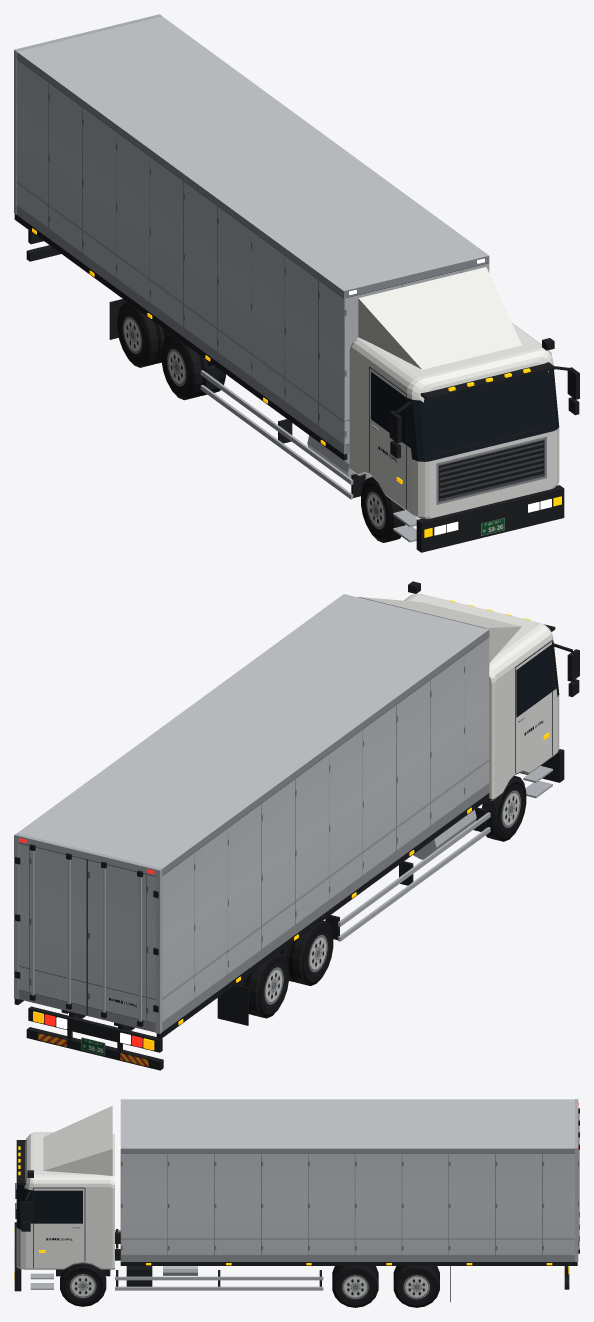
Rendered from truck10t.glb.
3 renders of one model, top to bottom at view 1: azimuth 30°, elevation 25°; view 2: azimuth 150°, elevation 25°; view 3: azimuth 270°, elevation 25°, orthographic. The views are drawn at different scales.
Visible parts, largest first — view 1: Body, WheelR1R, WheelR2R, WheelFR; view 2: Body, WheelR1R, WheelR2R, WheelFR; view 3: Body, WheelR2L, WheelR1L, WheelFL.
Boxes of the visible parts, bbox=[...] form: Body: bbox=[14, 14, 579, 552]; WheelR1R: bbox=[161, 334, 225, 400]; WheelR2R: bbox=[117, 302, 171, 367]; WheelFR: bbox=[361, 477, 405, 542]; Body: bbox=[14, 581, 579, 1070]; WheelR1R: bbox=[279, 920, 333, 985]; WheelR2R: bbox=[235, 953, 288, 1018]; WheelFR: bbox=[482, 775, 526, 841]; Body: bbox=[14, 1099, 579, 1302]; WheelR2L: bbox=[393, 1266, 439, 1307]; WheelR1L: bbox=[332, 1266, 378, 1307]; WheelFL: bbox=[60, 1263, 106, 1306].
Bounding box in the file's own units: 3.12 × 3.79 × 12.09.
Materials: 14 (4 with a texture image).
